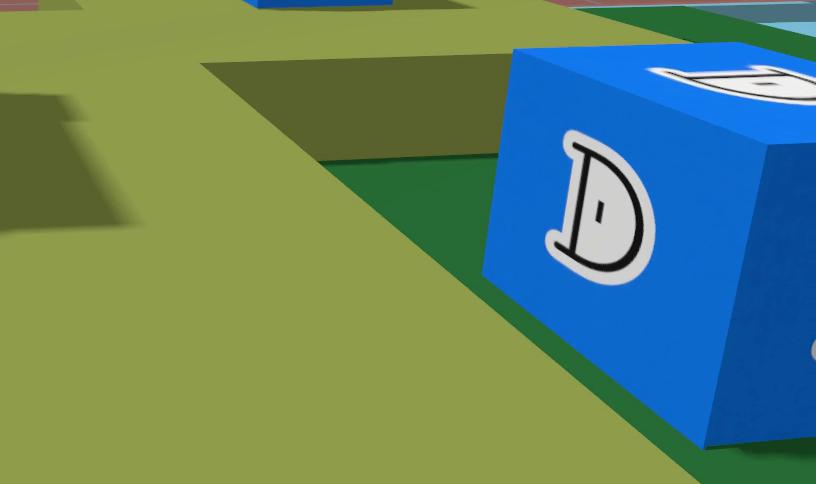KFS_REAL: (484, 42, 815, 446), (544, 129, 654, 285), (647, 65, 815, 104), (244, 0, 392, 7)
